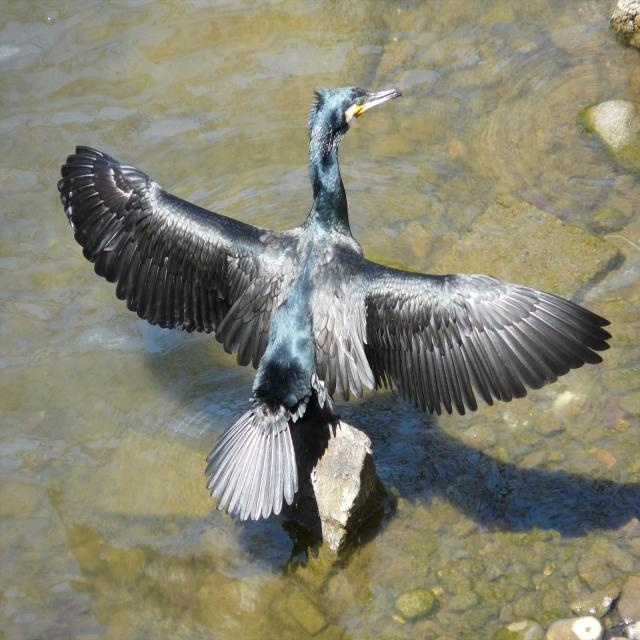bird: (55, 76, 616, 584)
